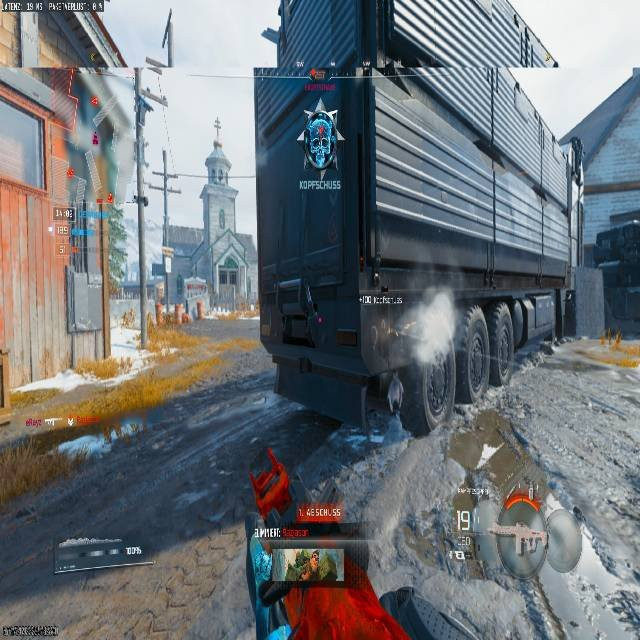player: (298, 96, 338, 172)
